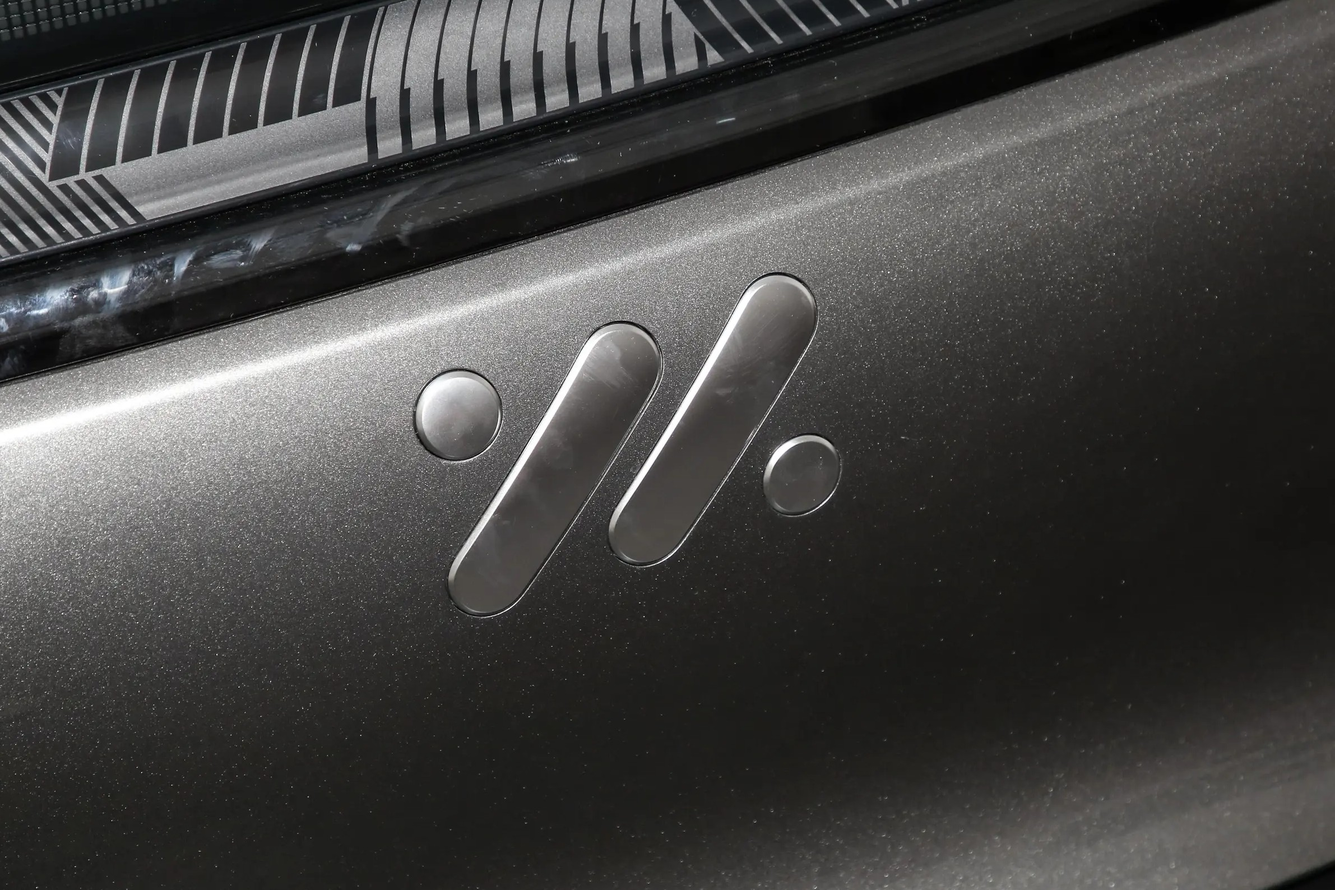IM: (413, 274, 841, 617)
